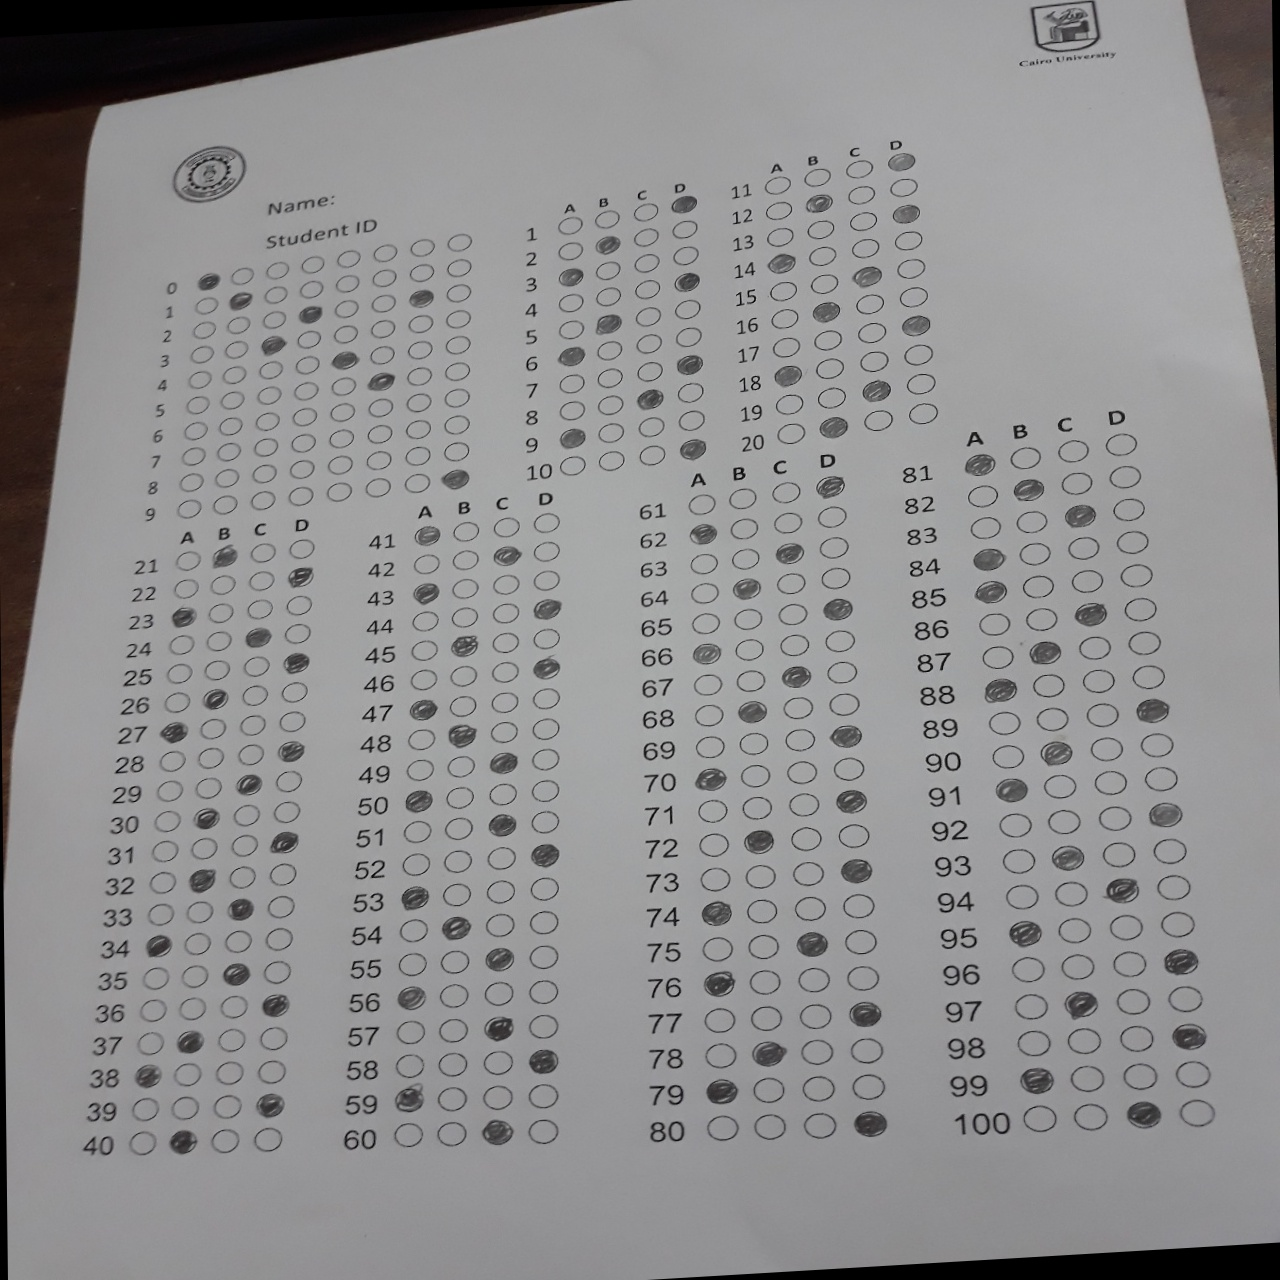not-c: (699, 935, 737, 964), (1166, 983, 1204, 1012), (1158, 908, 1196, 937), (1099, 840, 1137, 869), (1005, 881, 1042, 910), (1044, 806, 1082, 835), (1087, 735, 1124, 763), (1137, 729, 1175, 757), (965, 481, 1002, 509), (966, 512, 1003, 540), (740, 863, 778, 890), (843, 964, 881, 990), (849, 1036, 887, 1063), (799, 1037, 838, 1064), (1068, 1065, 1107, 1092), (1116, 1023, 1155, 1050), (1054, 881, 1092, 908), (1032, 704, 1070, 731), (978, 610, 1016, 636), (1073, 633, 1111, 660), (1068, 567, 1107, 594), (1017, 539, 1056, 566), (1061, 535, 1099, 561), (1007, 443, 1046, 470), (702, 1041, 738, 1069), (1111, 949, 1148, 978), (1105, 912, 1142, 940), (745, 933, 783, 960), (749, 1006, 787, 1033), (799, 1073, 837, 1099), (797, 1002, 835, 1029), (802, 1110, 839, 1137), (751, 1114, 789, 1141), (704, 1115, 742, 1142), (1020, 1104, 1057, 1131), (1179, 1099, 1217, 1126), (1176, 1060, 1213, 1087), (1114, 987, 1151, 1014), (1157, 873, 1194, 900), (1096, 805, 1133, 832), (1041, 772, 1078, 799), (987, 708, 1024, 735), (1021, 605, 1058, 632), (1123, 628, 1160, 655), (1122, 595, 1159, 622), (1020, 574, 1057, 601), (1107, 462, 1144, 489), (1103, 431, 1141, 458), (1122, 1063, 1160, 1089), (1012, 508, 1050, 533), (696, 865, 733, 892), (744, 968, 781, 995), (750, 1078, 787, 1105), (852, 1073, 888, 1099), (1073, 1102, 1109, 1129), (1065, 1027, 1102, 1054), (1017, 1029, 1054, 1056), (1009, 955, 1046, 982), (1010, 992, 1047, 1019), (1056, 915, 1092, 942), (996, 811, 1033, 838), (1091, 768, 1128, 795), (988, 743, 1024, 770), (1030, 670, 1067, 697), (1084, 700, 1121, 727), (981, 645, 1017, 672), (1118, 561, 1155, 588), (1057, 436, 1094, 463), (1058, 468, 1095, 495), (837, 892, 874, 918), (842, 928, 879, 954), (794, 966, 831, 992), (1060, 953, 1097, 979), (1150, 837, 1187, 863), (1001, 847, 1039, 873), (1141, 765, 1178, 791), (1129, 666, 1166, 692), (1081, 668, 1118, 694), (229, 801, 264, 828), (485, 719, 520, 745), (687, 580, 722, 607), (490, 570, 526, 595), (745, 898, 782, 924), (791, 894, 828, 920), (703, 1006, 740, 1032), (1114, 527, 1150, 553), (1111, 497, 1148, 523), (271, 767, 305, 794), (258, 1024, 292, 1051), (395, 1019, 429, 1046), (394, 951, 428, 978), (772, 568, 806, 595), (161, 632, 196, 658), (150, 806, 185, 832), (178, 930, 213, 955), (259, 958, 294, 983), (435, 1085, 470, 1111), (396, 917, 431, 942), (437, 881, 472, 907), (529, 747, 564, 772), (486, 659, 522, 685), (406, 666, 441, 692), (408, 638, 443, 663), (491, 629, 526, 655), (448, 574, 483, 600), (771, 509, 806, 535), (775, 600, 810, 626), (690, 672, 726, 697), (837, 822, 872, 847), (400, 819, 436, 844), (207, 572, 241, 598), (161, 659, 195, 685), (238, 681, 272, 707), (278, 678, 312, 703), (193, 743, 227, 769), (195, 772, 229, 798), (147, 835, 181, 860), (189, 836, 223, 862), (225, 863, 259, 888), (263, 926, 297, 952), (147, 869, 181, 894), (139, 965, 173, 990), (215, 1026, 248, 1051), (207, 1126, 241, 1152), (215, 1058, 248, 1084), (166, 1095, 200, 1121), (210, 1092, 244, 1118), (392, 1121, 425, 1146), (434, 1050, 468, 1076), (393, 1053, 427, 1078), (527, 1012, 561, 1037), (529, 945, 563, 971), (436, 1016, 470, 1042), (440, 949, 474, 975), (526, 910, 560, 935), (527, 874, 561, 900), (440, 847, 474, 873), (443, 815, 477, 840), (444, 785, 478, 811), (526, 809, 560, 835), (404, 727, 438, 753), (445, 604, 479, 629), (532, 509, 566, 535), (768, 481, 802, 506), (813, 503, 847, 529), (689, 550, 723, 576), (689, 610, 723, 635), (731, 636, 765, 662), (782, 726, 816, 751), (692, 734, 726, 760), (831, 755, 865, 781), (741, 795, 775, 821), (787, 824, 821, 850), (199, 658, 234, 682), (199, 714, 234, 738), (264, 893, 299, 918), (254, 1125, 290, 1150), (169, 1061, 204, 1085), (445, 662, 481, 687), (489, 599, 524, 624), (529, 568, 564, 593), (727, 546, 762, 571), (727, 518, 762, 543), (826, 690, 862, 715), (736, 763, 771, 788), (696, 831, 731, 856), (790, 862, 825, 886), (200, 629, 234, 654), (204, 599, 238, 624), (166, 574, 200, 599), (159, 688, 193, 713), (239, 654, 273, 679), (277, 709, 311, 734), (237, 712, 271, 736), (154, 748, 188, 772), (234, 741, 268, 765), (151, 779, 185, 804), (229, 831, 263, 856), (267, 798, 301, 823), (268, 860, 302, 885), (219, 926, 253, 951), (181, 900, 215, 925), (143, 901, 177, 926), (178, 962, 212, 987), (136, 996, 170, 1021), (173, 998, 207, 1022), (216, 993, 250, 1017), (256, 1058, 290, 1083), (125, 1131, 159, 1156), (125, 1098, 159, 1123), (134, 1032, 168, 1056), (437, 1121, 471, 1145), (525, 1118, 559, 1143), (525, 1083, 559, 1108), (481, 1084, 515, 1109), (482, 1050, 516, 1075), (527, 980, 561, 1005), (482, 982, 516, 1007), (438, 982, 472, 1007), (481, 879, 515, 904), (484, 912, 518, 937), (486, 845, 520, 870), (399, 853, 433, 878), (530, 777, 564, 802), (488, 779, 522, 804), (445, 755, 479, 779), (403, 756, 437, 781), (444, 694, 478, 719), (488, 690, 522, 715), (530, 716, 564, 741), (527, 687, 561, 712), (406, 608, 440, 633), (530, 626, 564, 651), (449, 547, 483, 572), (408, 552, 442, 577), (449, 519, 483, 544), (489, 515, 523, 539), (529, 538, 563, 563), (685, 492, 719, 517), (724, 485, 758, 510), (817, 532, 851, 557), (815, 566, 849, 591), (733, 606, 767, 631), (731, 668, 765, 693), (778, 633, 812, 658), (823, 628, 857, 653), (823, 660, 857, 685), (782, 696, 816, 721), (738, 729, 772, 754), (692, 702, 726, 727), (785, 758, 819, 783), (789, 792, 823, 817), (696, 797, 730, 822), (441, 384, 474, 408), (850, 209, 881, 232), (894, 258, 926, 281), (896, 285, 927, 308), (768, 278, 799, 301), (809, 272, 840, 295), (775, 421, 806, 444), (676, 409, 708, 433), (556, 452, 587, 476), (670, 298, 702, 321), (674, 324, 706, 347), (442, 332, 474, 355), (441, 359, 472, 382), (441, 414, 472, 437), (331, 271, 362, 294), (183, 367, 215, 390), (284, 593, 315, 617), (801, 165, 833, 188), (554, 318, 587, 340), (284, 458, 316, 481), (845, 184, 876, 207), (594, 366, 625, 389), (634, 360, 665, 383), (554, 291, 585, 314), (633, 275, 663, 299), (406, 312, 436, 335), (369, 265, 400, 288), (297, 278, 327, 301), (259, 257, 290, 280), (254, 358, 285, 381), (248, 490, 279, 513), (222, 338, 252, 361), (287, 537, 318, 560), (887, 175, 919, 197), (806, 245, 838, 267), (855, 292, 886, 314), (771, 335, 803, 358), (813, 387, 845, 409), (905, 372, 937, 394), (855, 321, 886, 343), (636, 415, 668, 437), (557, 399, 588, 421), (632, 332, 663, 354), (632, 304, 663, 326), (668, 244, 700, 266), (591, 207, 622, 230), (554, 215, 586, 237), (403, 390, 435, 413), (370, 291, 402, 313), (366, 316, 397, 339), (400, 417, 431, 440), (363, 476, 395, 498), (285, 484, 316, 506), (288, 379, 320, 401), (333, 298, 365, 320), (332, 247, 363, 270), (251, 435, 282, 457), (215, 440, 246, 462), (222, 314, 253, 336), (176, 444, 207, 467), (243, 597, 274, 619), (282, 621, 314, 644), (216, 363, 248, 384), (595, 422, 625, 445), (763, 199, 794, 222), (765, 225, 796, 247), (804, 217, 835, 239), (893, 229, 924, 251), (769, 308, 799, 331), (775, 393, 805, 415), (862, 409, 892, 431), (906, 401, 937, 423), (554, 372, 585, 394), (592, 286, 622, 308), (633, 250, 663, 272), (594, 258, 625, 280), (554, 239, 585, 261), (406, 339, 436, 361), (404, 261, 435, 284), (406, 238, 436, 260), (440, 440, 470, 462), (363, 448, 394, 470), (328, 374, 359, 396), (290, 355, 320, 377), (297, 253, 327, 275), (254, 383, 285, 406), (254, 409, 285, 431), (248, 461, 279, 483), (213, 415, 244, 437), (219, 388, 250, 410), (185, 316, 216, 339), (181, 393, 211, 415), (178, 418, 209, 441), (177, 470, 207, 492), (173, 549, 204, 571), (245, 568, 275, 591), (844, 159, 876, 181), (762, 173, 794, 195), (849, 236, 880, 257), (903, 343, 934, 365), (859, 350, 891, 372), (815, 356, 846, 377), (595, 450, 627, 471), (629, 200, 661, 222), (442, 307, 474, 328), (401, 472, 433, 493), (326, 455, 358, 476), (324, 481, 355, 502), (291, 328, 322, 349), (332, 322, 363, 343), (261, 282, 293, 304), (258, 308, 290, 329), (210, 496, 241, 517), (224, 264, 256, 285), (173, 498, 205, 519), (635, 443, 665, 465), (594, 340, 624, 362), (678, 381, 707, 403), (668, 218, 697, 240), (369, 342, 399, 365), (363, 422, 393, 444), (812, 329, 843, 350), (595, 395, 626, 416), (629, 226, 660, 247), (403, 365, 434, 386), (368, 241, 399, 263), (368, 397, 399, 418), (404, 445, 435, 467), (287, 431, 318, 452), (325, 427, 355, 448), (327, 401, 358, 422), (288, 404, 319, 425), (213, 467, 244, 488), (184, 343, 215, 365), (247, 542, 278, 563), (444, 231, 474, 252), (192, 293, 222, 314), (444, 256, 475, 275), (444, 282, 474, 302)
taken-c: (128, 1062, 164, 1090), (251, 1090, 286, 1118), (392, 1085, 427, 1114), (527, 840, 563, 869), (686, 519, 721, 547), (703, 968, 738, 996), (846, 999, 881, 1027), (1019, 1065, 1054, 1094), (1163, 947, 1198, 975), (1148, 801, 1183, 829), (1131, 696, 1166, 724), (1026, 638, 1061, 666), (1074, 598, 1109, 626), (481, 1014, 517, 1041), (486, 747, 523, 774), (750, 1039, 787, 1065), (173, 1026, 207, 1054), (486, 810, 520, 838), (408, 579, 442, 607), (770, 538, 804, 566), (735, 697, 769, 726), (692, 640, 726, 668), (794, 930, 828, 958), (840, 855, 874, 883), (855, 1110, 888, 1138), (1126, 1101, 1160, 1129), (1169, 1022, 1203, 1050), (1039, 737, 1073, 765), (971, 545, 1005, 573), (965, 450, 999, 478), (219, 960, 254, 987), (257, 990, 292, 1017), (165, 1128, 200, 1155), (524, 1046, 559, 1073), (440, 913, 475, 940), (530, 653, 565, 680), (448, 631, 483, 658), (409, 523, 444, 550), (488, 542, 523, 568), (728, 576, 763, 602), (819, 595, 855, 622), (778, 661, 813, 688), (692, 765, 727, 792), (741, 828, 776, 855), (832, 788, 867, 815), (1063, 990, 1098, 1017), (1007, 919, 1042, 946), (1105, 877, 1141, 904), (1047, 845, 1082, 872), (993, 776, 1028, 803), (981, 678, 1016, 704), (975, 580, 1010, 607), (1009, 474, 1044, 501), (394, 983, 428, 1010), (478, 1118, 512, 1145), (485, 945, 519, 972), (397, 885, 431, 912), (403, 787, 437, 813), (445, 722, 479, 749), (406, 695, 440, 722), (527, 595, 561, 622), (828, 722, 862, 749), (697, 899, 731, 926), (706, 1077, 740, 1104), (1062, 501, 1096, 527), (554, 343, 588, 367), (765, 251, 797, 275), (888, 200, 921, 224), (554, 425, 587, 449), (284, 565, 316, 588), (168, 606, 200, 629), (190, 806, 223, 830), (157, 721, 190, 744), (804, 191, 835, 216), (850, 264, 881, 287), (810, 300, 842, 324), (675, 353, 707, 376), (635, 387, 667, 410), (440, 468, 471, 491), (328, 347, 360, 370), (185, 869, 217, 892), (670, 270, 703, 292), (554, 265, 587, 287), (592, 313, 625, 335), (406, 287, 438, 309), (224, 288, 257, 311), (207, 546, 240, 568), (225, 897, 258, 919), (885, 149, 917, 171), (899, 315, 931, 338), (857, 380, 888, 402), (811, 475, 843, 497), (667, 192, 699, 215), (297, 302, 328, 325), (254, 332, 286, 354), (240, 626, 272, 648), (200, 688, 232, 710), (280, 651, 312, 673), (274, 741, 306, 763), (268, 830, 300, 852), (142, 934, 173, 956), (815, 416, 847, 437), (678, 440, 710, 461), (593, 233, 626, 254), (365, 370, 397, 392), (189, 268, 222, 290), (771, 365, 803, 386), (232, 772, 264, 794)
